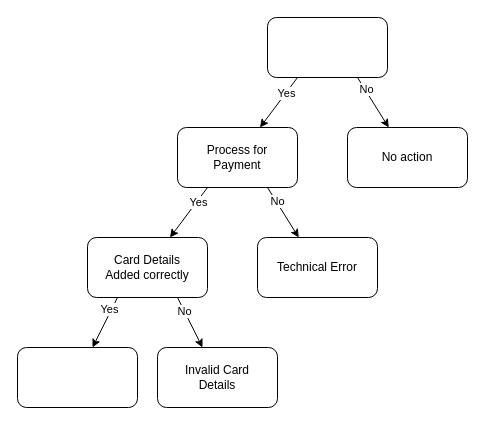
The diagram is 485 pixels wide and 425 high, and some of its shapes have lost their labels. Here are the shapes that lost their labels. From the top down, the box of each, then its label:
(266, 16, 388, 78): Food items added in Cart
(16, 346, 138, 408): Order Confirmed
